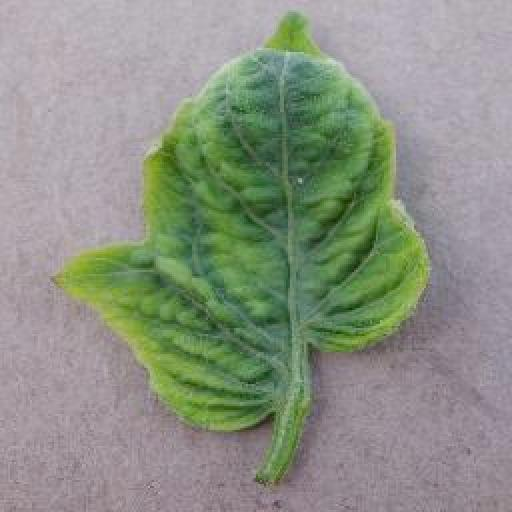disease_tomato: (52, 8, 430, 430)
